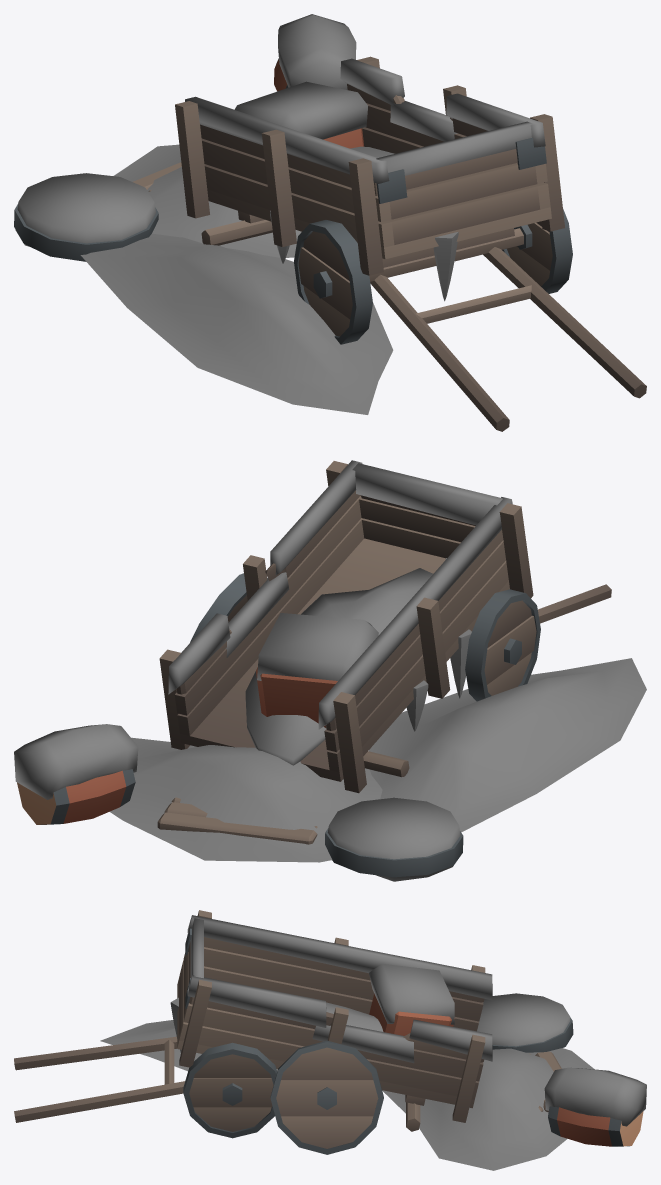
The model's file is cart_frozen_B_blue.fbx.
3 views of the same model, one above another, from view 1: azimuth 30°, elevation 25°; view 2: azimuth 150°, elevation 25°; view 3: azimuth 270°, elevation 25° (orthographic). The views are drawn at different scales.
Parts seen in each view (by area): view 1: cart_frozen_B_blue; view 2: cart_frozen_B_blue; view 3: cart_frozen_B_blue.
Part boxes in pixels (<box>): cart_frozen_B_blue: <box>14,14,646,431</box>; cart_frozen_B_blue: <box>14,460,646,881</box>; cart_frozen_B_blue: <box>14,910,646,1170</box>.
Size of the model in its own units: 2.01 by 0.9257 by 3.35.
